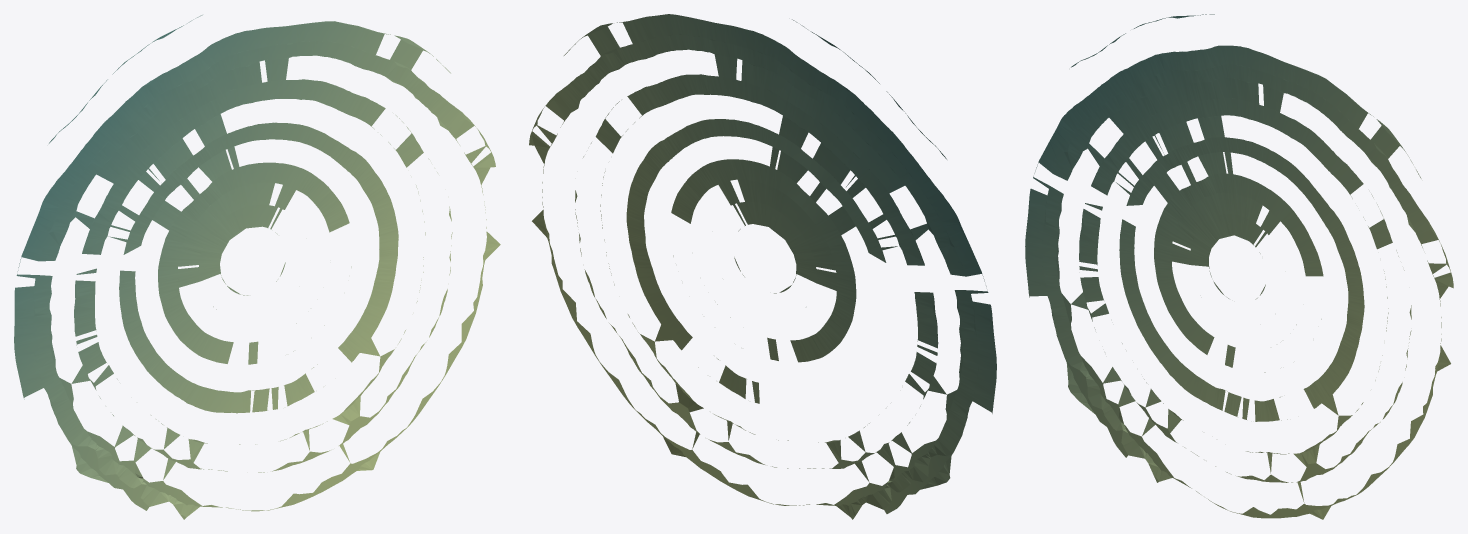
Rendered from iith-high-slope.glb.
The picture shows the model from 3 angles, left to right: view 1: azimuth 30°, elevation 25°; view 2: azimuth 150°, elevation 25°; view 3: azimuth 330°, elevation 25°; orthographic projection. The views are drawn at different scales.
Visible parts, largest first — view 1: geometry_0; view 2: geometry_0; view 3: geometry_0.
Part boxes in pixels (box(x1,y1,x2,y2)): geometry_0: box(14, 15, 500, 519); geometry_0: box(529, 14, 996, 519); geometry_0: box(1025, 14, 1453, 519).
Bounding box in the file's own units: 52.67 × 53.02 × 6.2.
